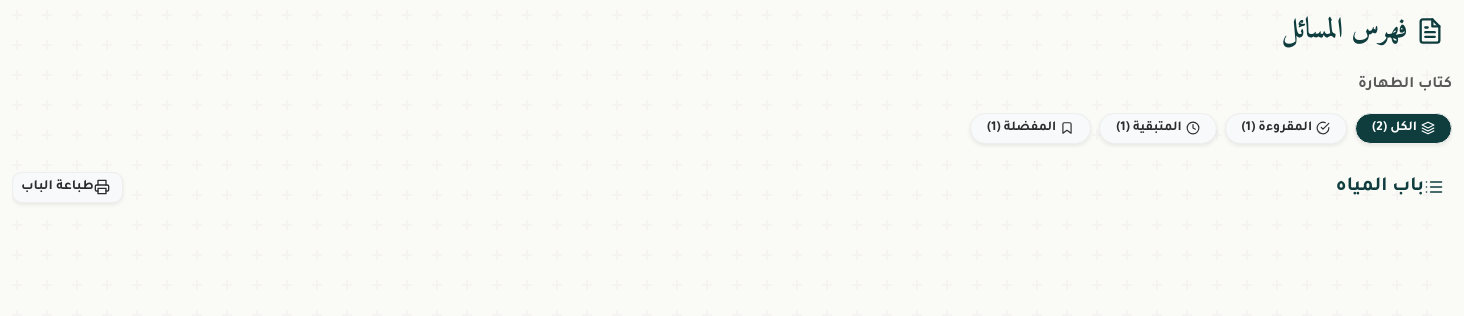
Scenario: LessonsView Component › يعرض أزرار التصفية السريعة ويقوم بالتصفية حسب المقروءة والمتبقية والمفضلة
This screenshot has width=1464, height=316.
Check: the button "الكل (2)" is shown, box [1355,113,1452,144]
Check: the button "المتبقية (1)" is shown, box [1099,113,1217,144]
التصفية للمقروءة فقط (المسألة الثانية)
Click the button "المقروءة (1)".
click(1286, 128)  # box [1225,113,1347,144]
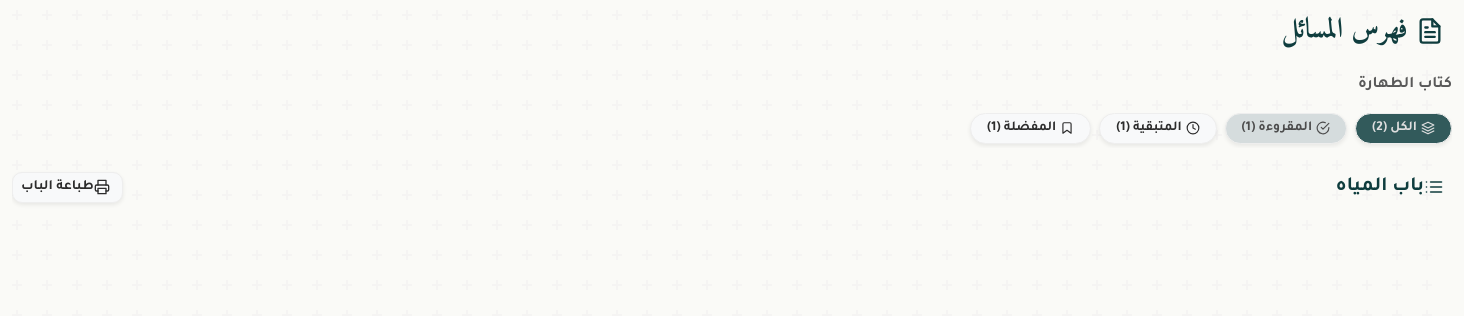
Check: the text "المسألة الأولى: أحكام المياه" is not shown
التصفية للمتبقية فقط (المسألة الأولى)
Click the button "المتبقية (1)".
click(1158, 128)  # box [1099,113,1217,144]
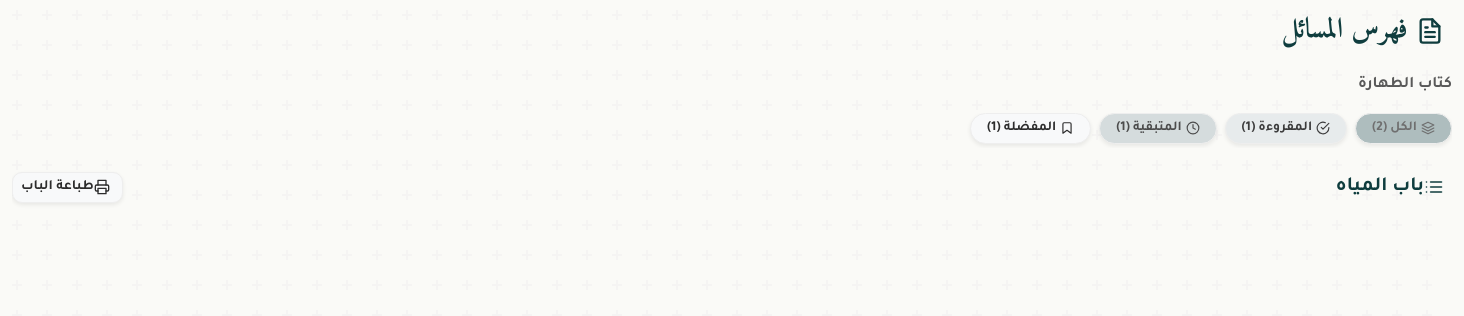
Click the button "المفضلة (1)".
click(1031, 128)  # box [970,113,1091,144]
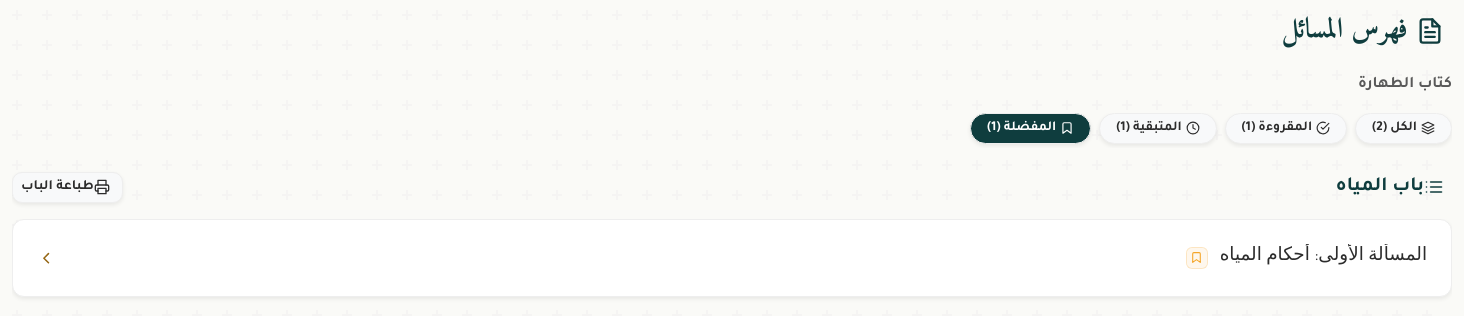
Check: the text "المسألة الأولى: أحكام المياه" is shown, box [1220,244,1427,271]
